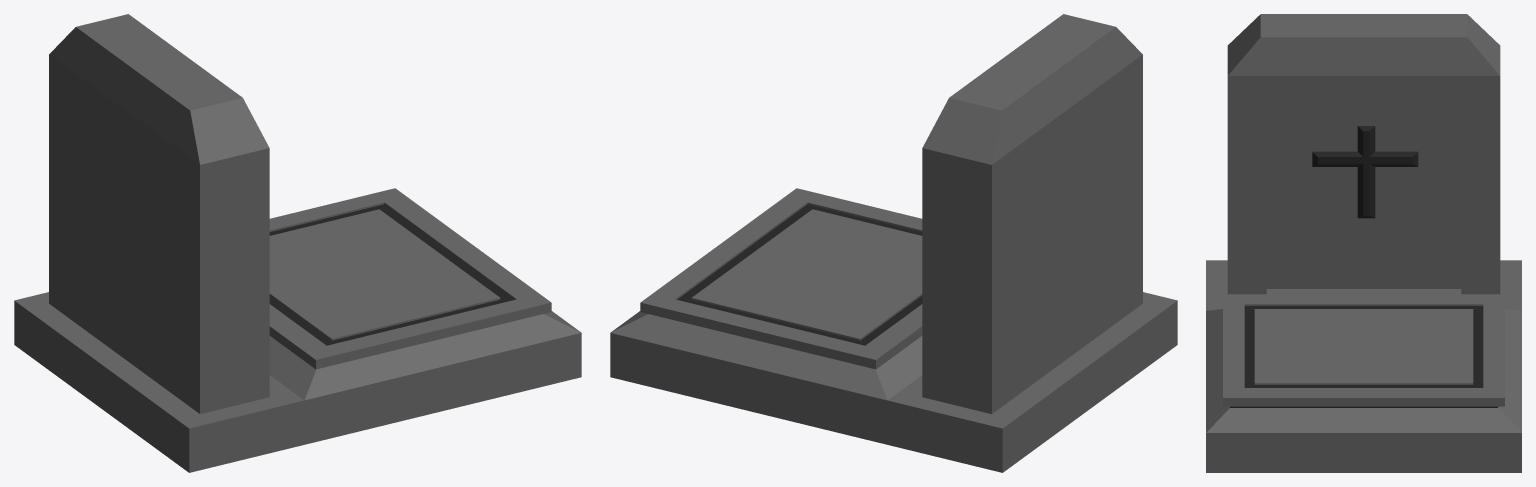
The model's file is tombe_fosse.fbx.
3 views of the same model, side by side, from view 1: azimuth 30°, elevation 25°; view 2: azimuth 150°, elevation 25°; view 3: azimuth 270°, elevation 25° (orthographic). The views are drawn at different scales.
Visible parts, largest first — view 1: tombe; view 2: tombe; view 3: tombe.
Part boxes in pixels (x1,y1,x2,y2): tombe: [14, 14, 581, 472]; tombe: [610, 14, 1177, 472]; tombe: [1206, 14, 1521, 472].
Size of the model in its own units: 162 by 131 by 125.
Materials: 1 (1 with a texture image).
